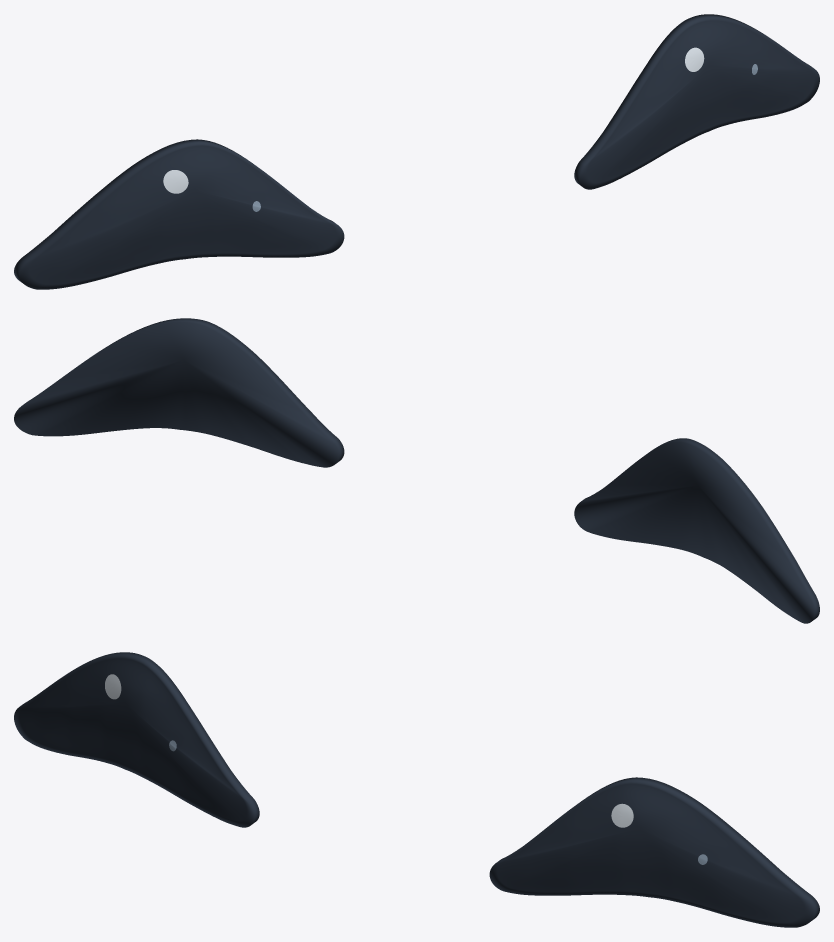
The model's file is Feminine-eyes-squint.glb.
3 renders of one model, top to bottom at view 1: azimuth 30°, elevation 25°; view 2: azimuth 150°, elevation 25°; view 3: azimuth 330°, elevation 25°, orthographic.
Parts seen in each view (by area): view 1: 226 eyes / Eye / smoky charcoal181, 226 eyes / Eye highlight181; view 2: 226 eyes / Eye / smoky charcoal181; view 3: 226 eyes / Eye / smoky charcoal181, 226 eyes / Eye highlight181.
Boxes of the visible parts, x1,y1,x2,y2 form: 226 eyes / Eye / smoky charcoal181: (14, 14, 819, 289); 226 eyes / Eye highlight181: (163, 47, 704, 193); 226 eyes / Eye / smoky charcoal181: (14, 318, 819, 623); 226 eyes / Eye / smoky charcoal181: (14, 652, 819, 927); 226 eyes / Eye highlight181: (105, 674, 633, 827).
Size of the model in its own units: 0.4672 by 0.0722 by 0.0483.
